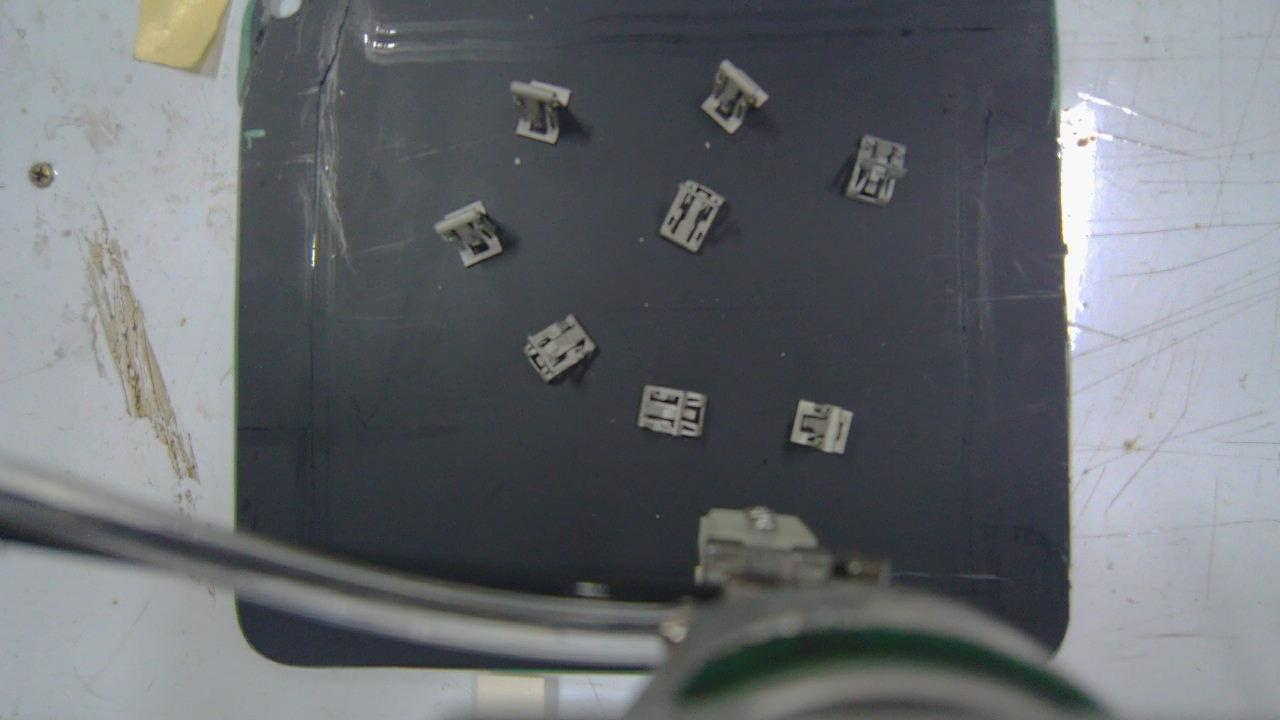ng: (700, 59, 770, 134), (660, 177, 726, 254), (523, 314, 596, 383), (433, 199, 504, 268), (844, 134, 908, 205), (510, 80, 572, 145), (636, 387, 708, 438), (790, 402, 855, 453)
